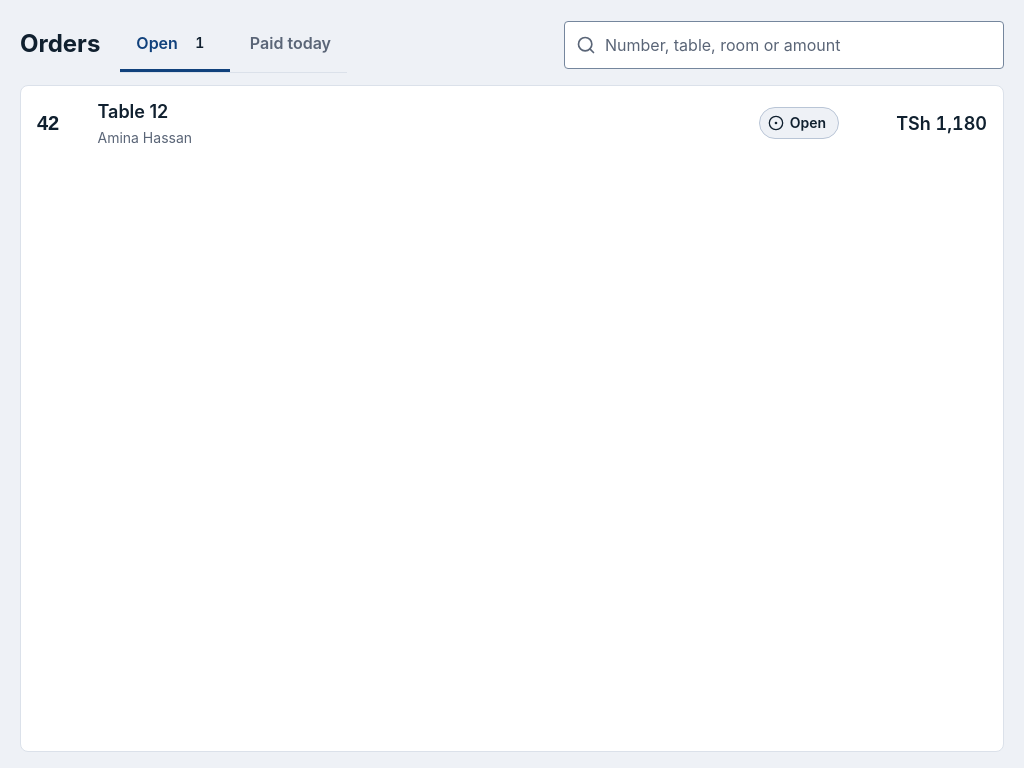
Scenario: Orders › an open order's detail: lines, totals, and Send, Pay and Void
Click the button with test id "order-row-order-1" at (133, 112), box 21,86 -> 1003,160
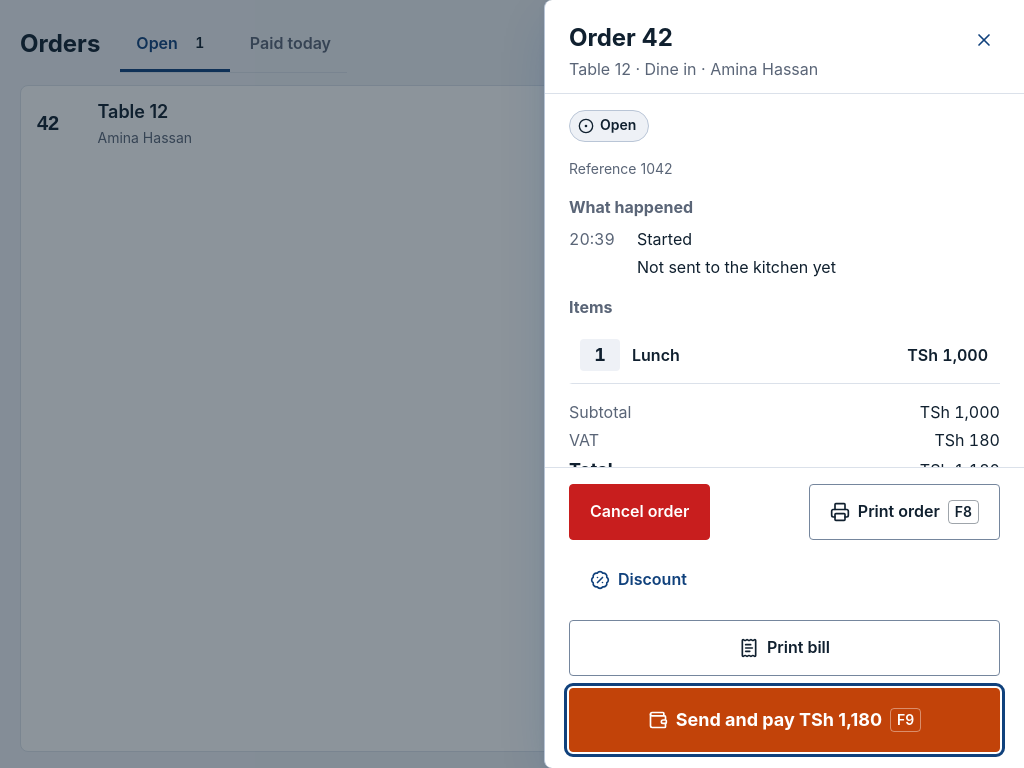
Check: the element with test id "order-detail-lines" shows "Lunch", box 569,327 -> 1000,384
Check: the button with test id "detail-pay" shows "Send and pay TSh 1,180", box 569,688 -> 1000,752
Check: the button "Cancel order" is enabled, box 569,484 -> 710,540
